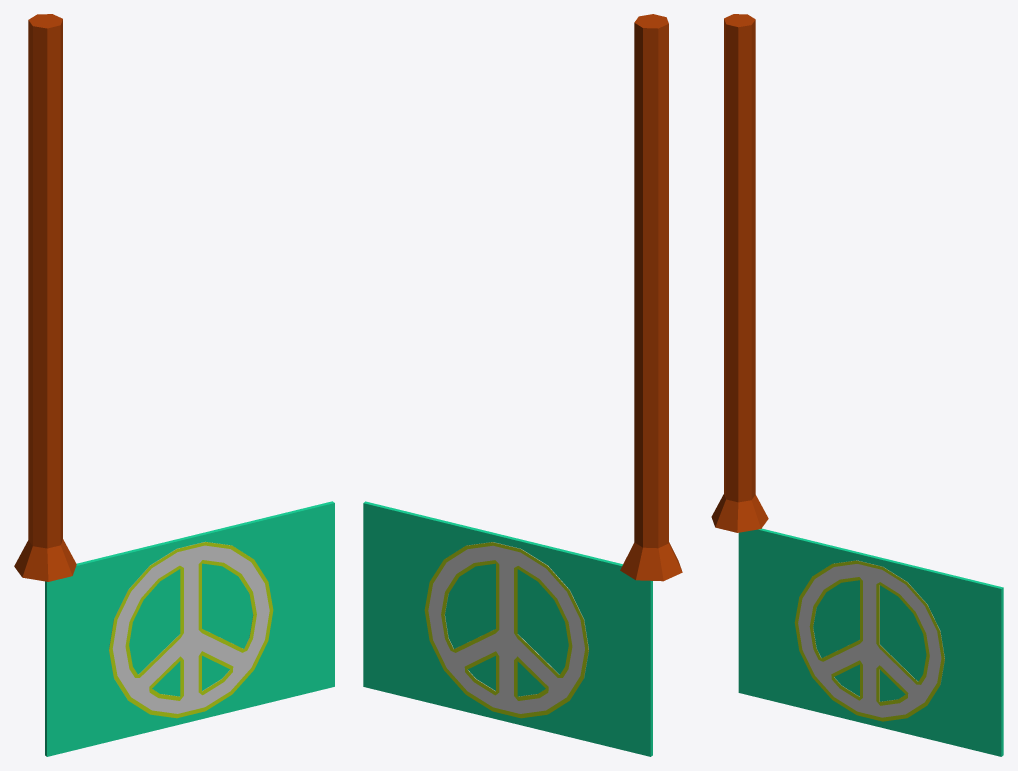
The model's file is flag.fbx.
The picture shows the model from 3 angles, left to right: view 1: azimuth 30°, elevation 25°; view 2: azimuth 150°, elevation 25°; view 3: azimuth 330°, elevation 25°; orthographic projection. The views are drawn at different scales.
Visible parts, largest first — view 1: flag, Circle; view 2: flag, Circle; view 3: flag, Circle.
Part boxes in pixels (<box>): flag: <box>45,501,334,756</box>; Circle: <box>14,14,76,581</box>; flag: <box>363,501,652,756</box>; Circle: <box>620,14,682,581</box>; flag: <box>738,528,1003,756</box>; Circle: <box>711,14,768,532</box>.
Size of the model in its own units: 1.2 by 2.69 by 0.2031.
